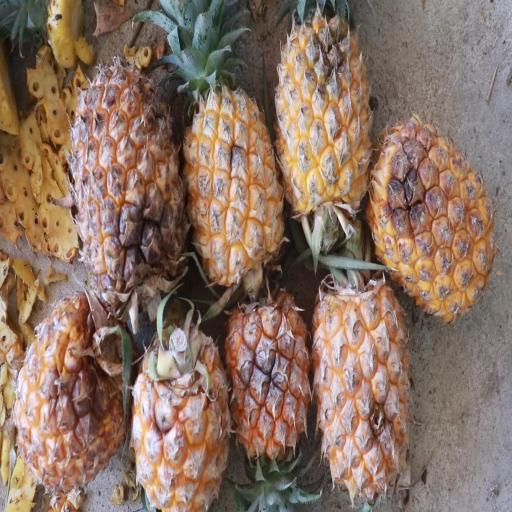Pineapple - v8 v1: (60, 41, 190, 318), (175, 11, 291, 282), (366, 102, 502, 331), (10, 275, 131, 512), (310, 255, 421, 512), (274, 0, 378, 229), (120, 301, 232, 511), (220, 274, 314, 506)
